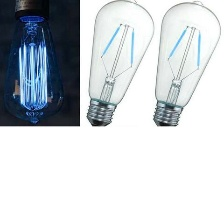light_bulb: (81, 0, 162, 132), (145, 0, 224, 134), (0, 0, 68, 129)
